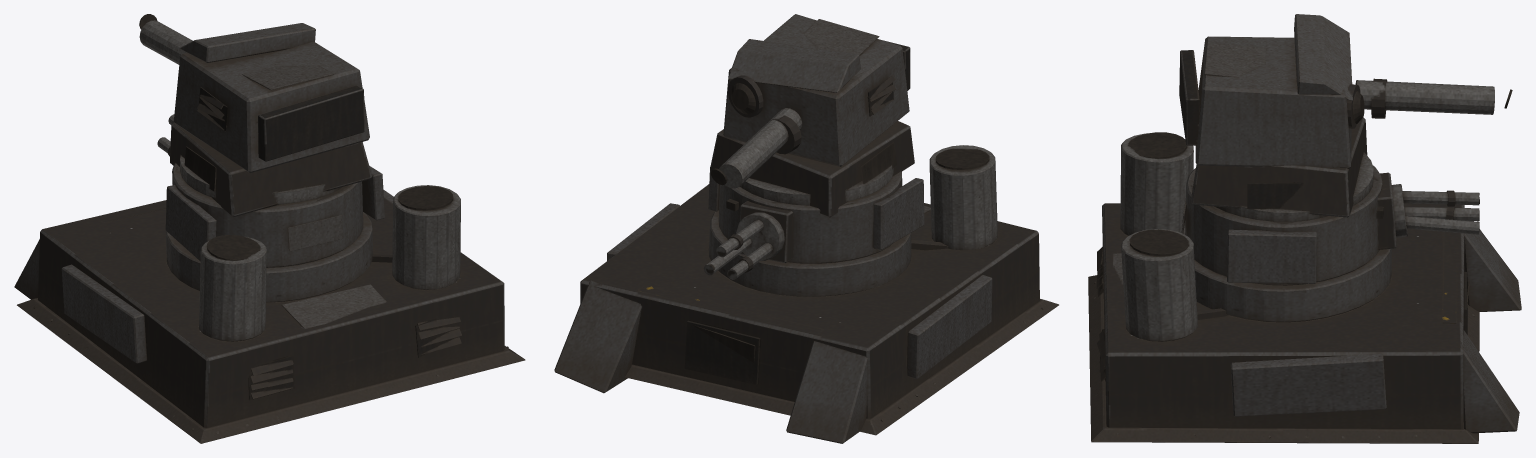
The model's file is chs_bulwark_wreck.fbx.
3 renders of one model, left to right at view 1: azimuth 30°, elevation 25°; view 2: azimuth 150°, elevation 25°; view 3: azimuth 270°, elevation 25°, orthographic. The views are drawn at different scales.
Visible parts, largest first — view 1: base_bar, turret_bar, laser_bar, shell_bar, barrel_bar; view 2: base_bar, turret_bar, laser_bar, shell_bar, barrel_bar, laser_drum_bar, laser_mount_bar; view 3: base_bar, turret_bar, laser_bar, shell_bar, barrel_bar, laser_drum_bar, laser_mount_bar.
Part boxes in pixels (x1,y1,x2,y2): base_bar: (14, 185, 525, 443); turret_bar: (173, 23, 369, 172); laser_bar: (165, 163, 384, 267); shell_bar: (170, 123, 371, 216); barrel_bar: (139, 14, 192, 64); base_bar: (554, 145, 1058, 443); turret_bar: (723, 14, 910, 166); laser_bar: (708, 167, 924, 263); shell_bar: (710, 121, 914, 217); barrel_bar: (711, 108, 802, 188); laser_drum_bar: (703, 212, 784, 279); laser_mount_bar: (739, 201, 793, 262); base_bar: (1088, 132, 1521, 443); turret_bar: (1179, 14, 1364, 168); laser_bar: (1181, 165, 1383, 285); shell_bar: (1190, 117, 1373, 221); barrel_bar: (1355, 78, 1512, 118); laser_drum_bar: (1391, 184, 1479, 237); laser_mount_bar: (1377, 172, 1396, 249).
Size of the model in its own units: 1764 by 1746 by 1914.
2 materials, 2 textured.
